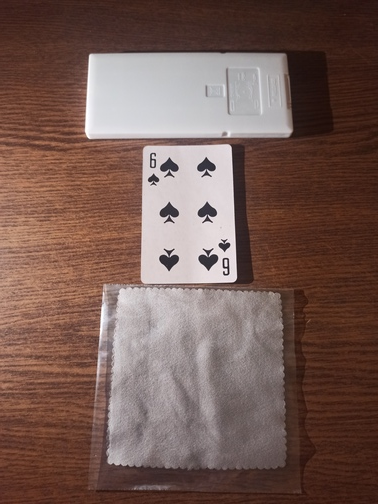sixspades: (139, 143, 241, 285)
